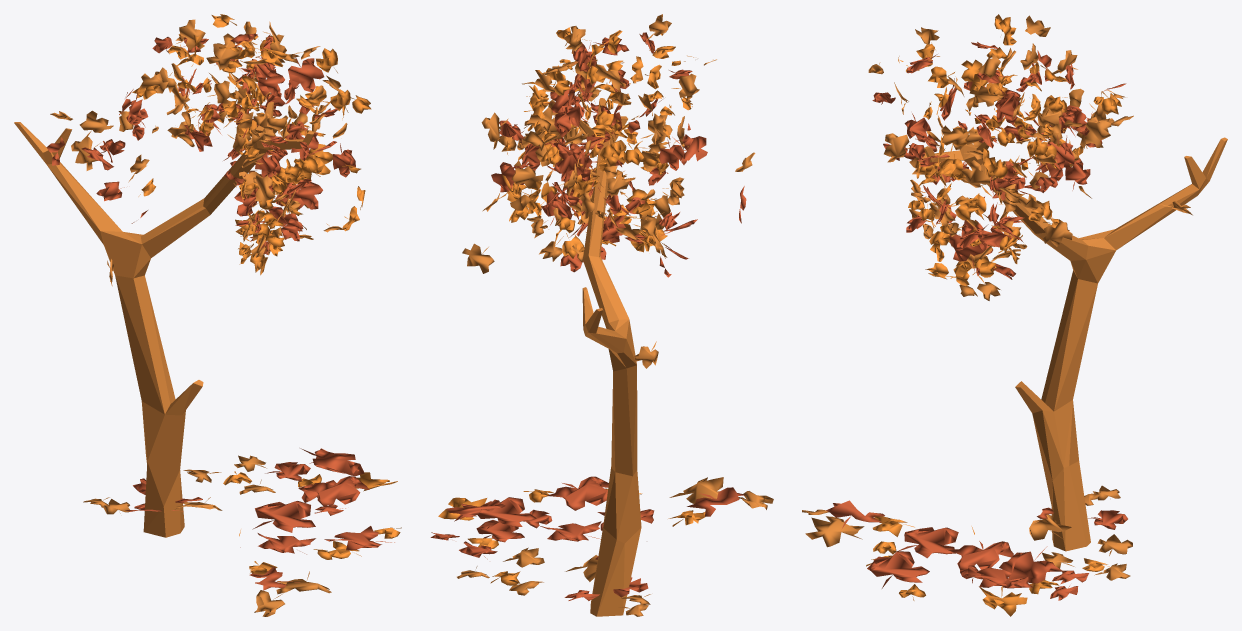
File: testcay.fbx
3 views of the same model, side by side, from view 1: azimuth 30°, elevation 25°; view 2: azimuth 150°, elevation 25°; view 3: azimuth 270°, elevation 25° (orthographic).
Parts seen in each view (by area): view 1: yellow, Tree_003_LOD0.003; view 2: yellow, Tree_003_LOD0.003; view 3: yellow, Tree_003_LOD0.003.
Boxes of the visible parts, x1,y1,x2,y2 form: yellow: [46, 14, 401, 616]; Tree_003_LOD0.003: [14, 102, 314, 537]; yellow: [430, 14, 773, 616]; Tree_003_LOD0.003: [579, 98, 641, 616]; yellow: [802, 14, 1192, 616]; Tree_003_LOD0.003: [924, 126, 1227, 551].
Size of the model in its own units: 64.95 by 103 by 73.54.
